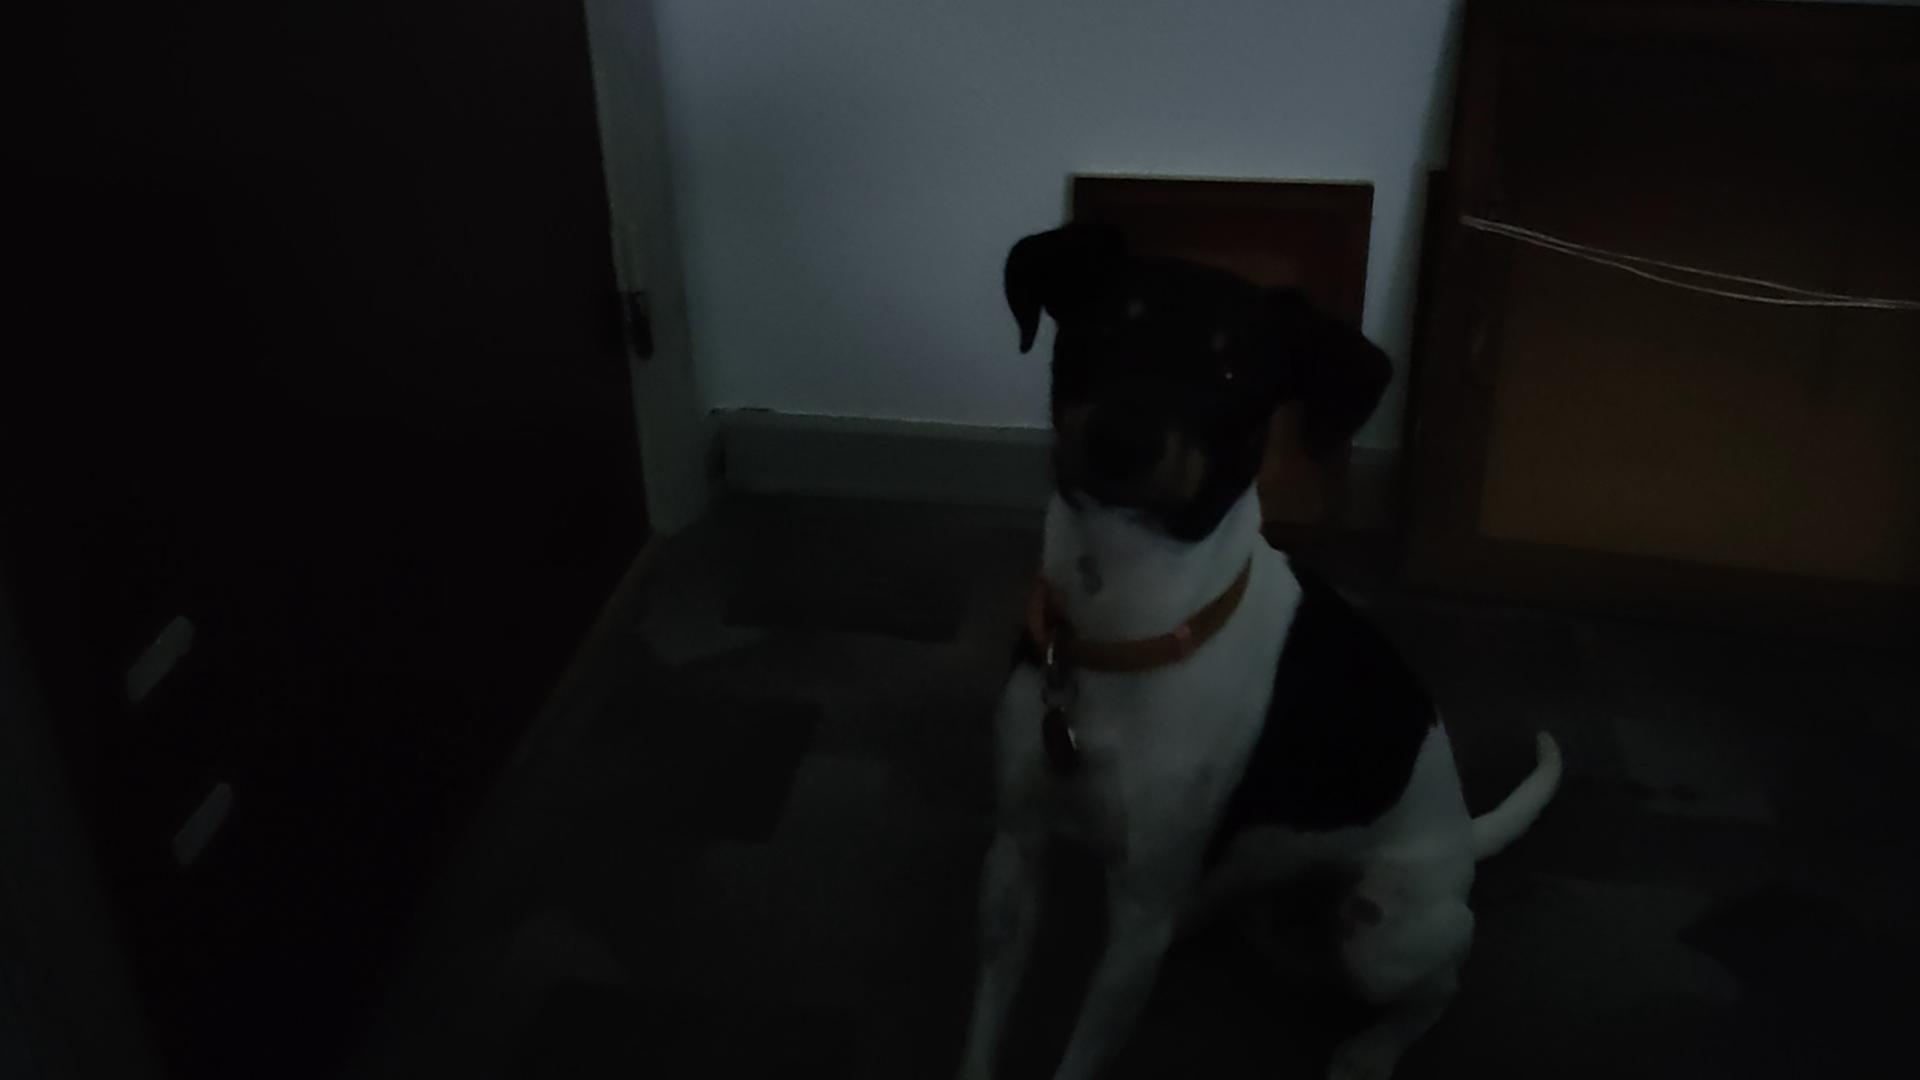Dog: (953, 199, 1585, 1079)
